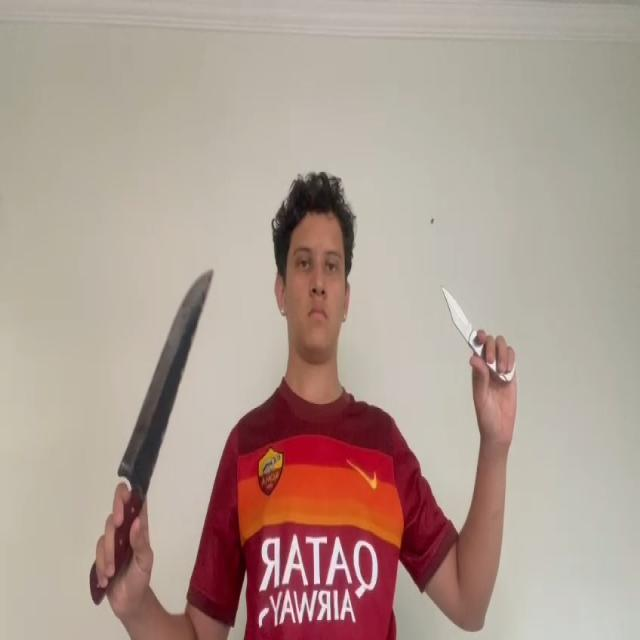knife: (119, 268, 214, 476), (442, 286, 472, 344)
